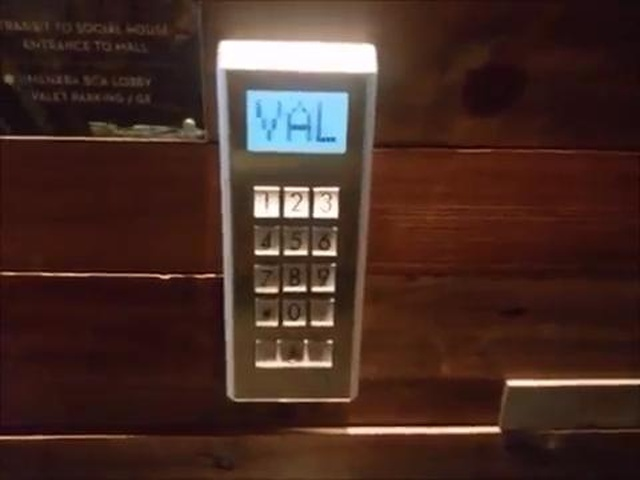0: (281, 293, 308, 328)
1: (252, 184, 281, 221)
2: (281, 184, 312, 221)
3: (312, 184, 341, 220)
4: (252, 220, 281, 257)
5: (281, 220, 312, 256)
6: (311, 221, 341, 256)
7: (251, 262, 281, 293)
8: (281, 262, 308, 293)
9: (308, 262, 337, 294)
blur: (251, 294, 281, 328), (308, 294, 337, 328), (306, 335, 334, 369), (252, 336, 279, 369), (279, 336, 306, 369)
led: (243, 83, 352, 155)
